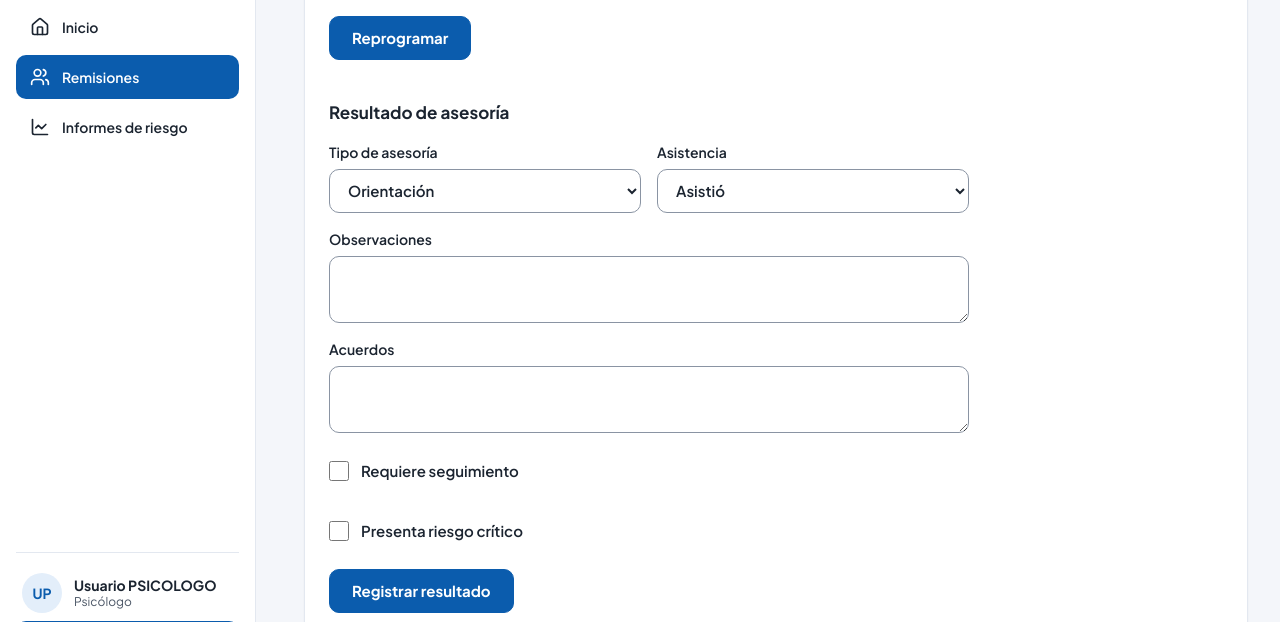
Scenario: Atención psicológica (F4b) › muestra el texto del 409 R06 si el consentimiento cambia después de cargar el expediente
(page scrolled)
In the text box labelled "Observaciones": [649, 289] box 329,256 -> 969,323, type "Resultado de prueba"
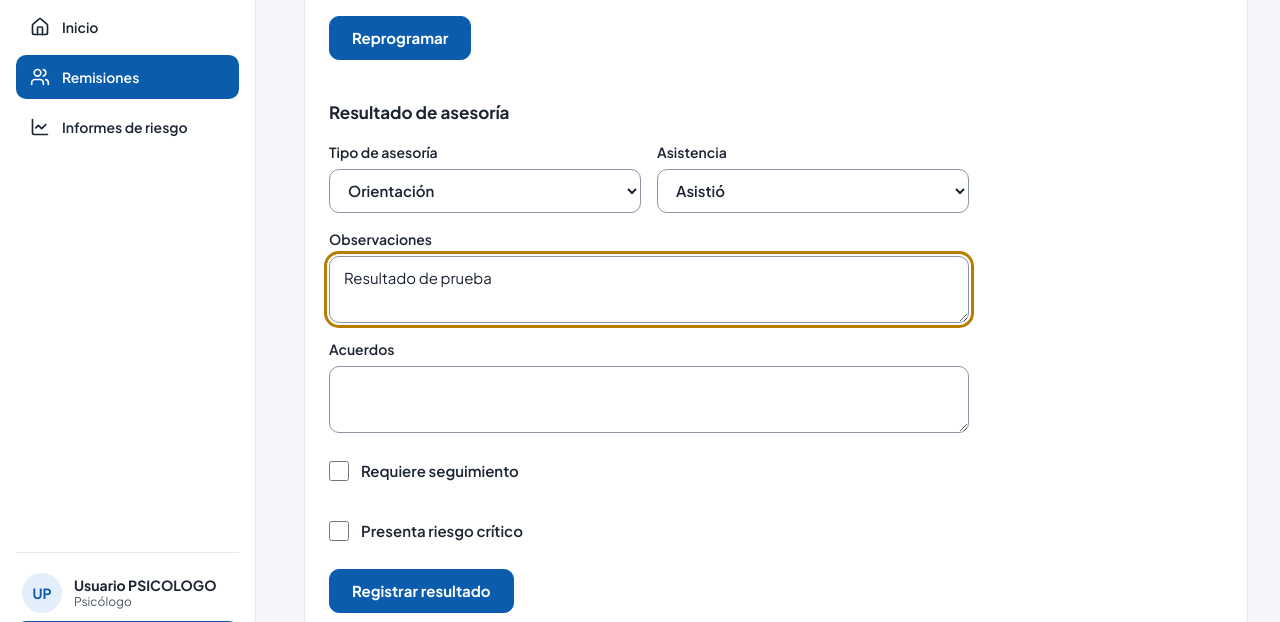
Click the button "Registrar resultado": [421, 591] box 329,569 -> 514,613
(page scrolled)
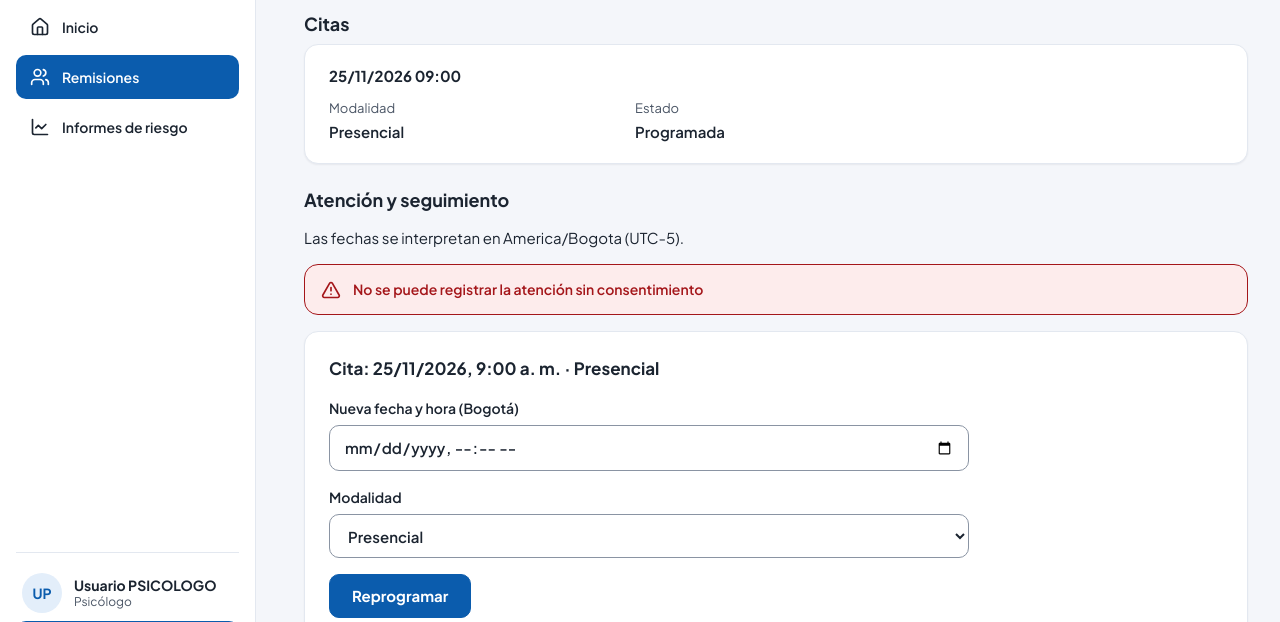
Expected: the message reads "No se puede registrar la atención sin consentimiento", 353,280 -> 703,298
